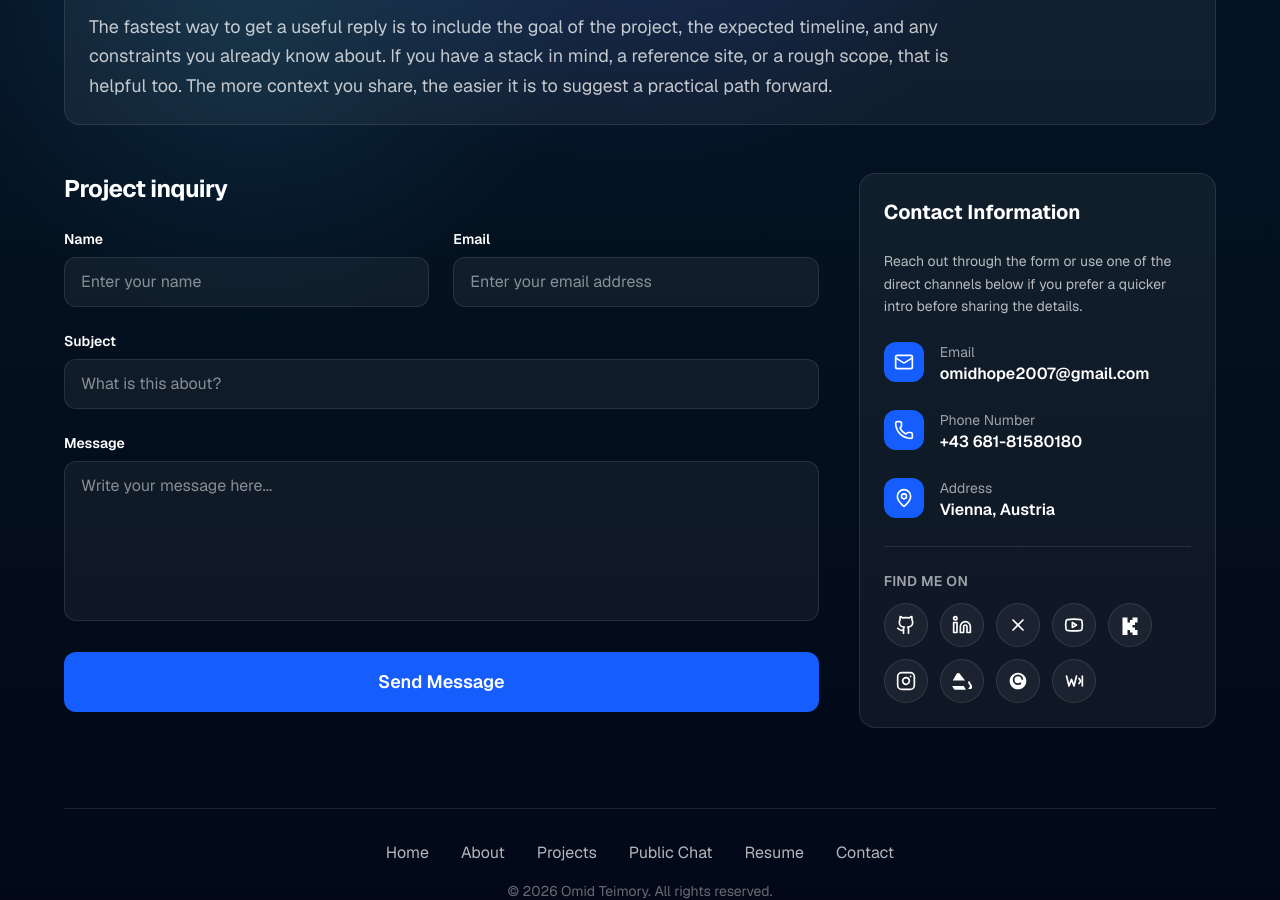
Test: frontend UI flows › contact form validates then submits
(page scrolled)
Expected: the heading "Project inquiry" is shown, [64,173,228,204]
Submit the form, box [64,173,819,728]
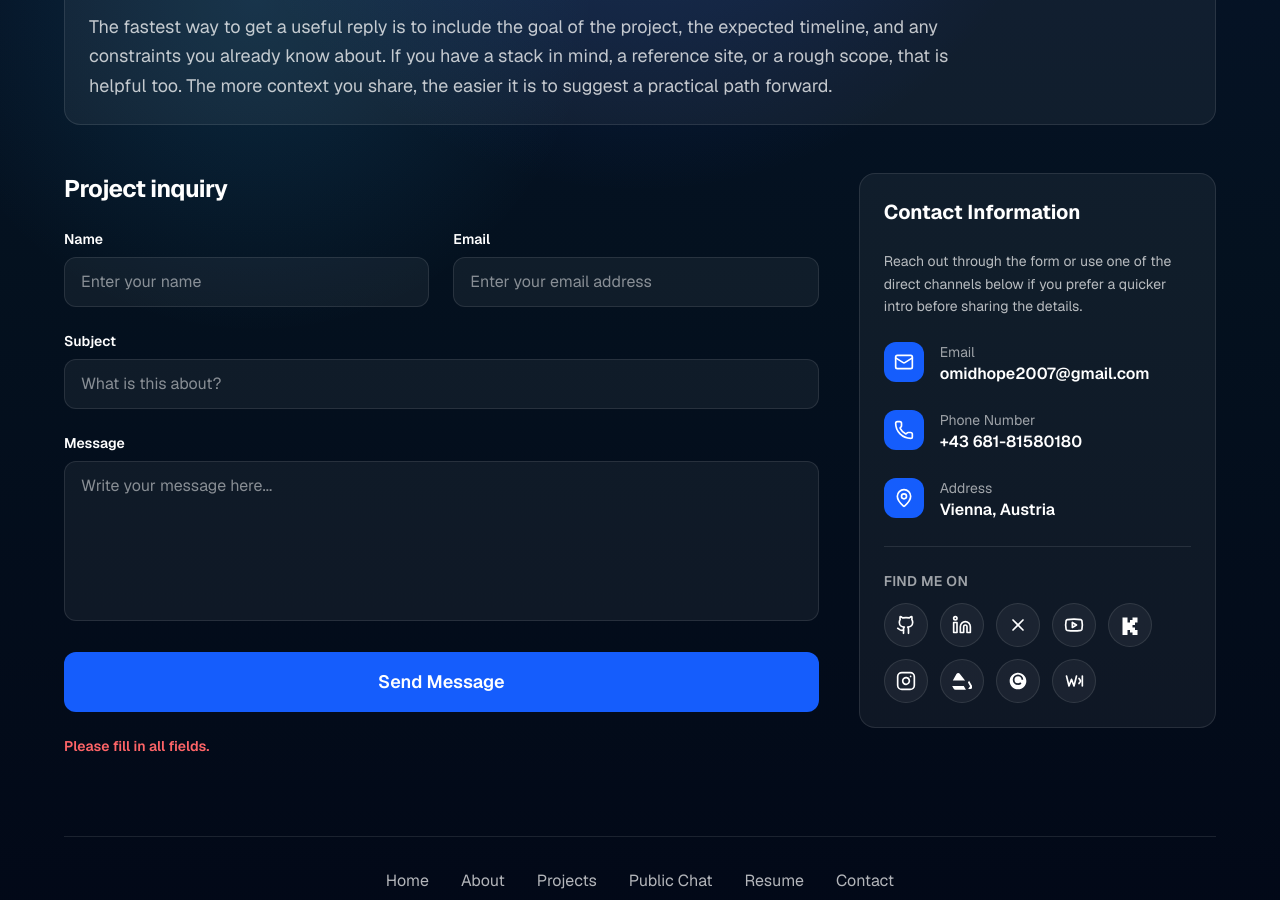
Expected: the text "Please fill in all fields." is shown, [64,737,209,755]
Type "Omid" into the field labelled "Name".
click(247, 282); type("Omid")  # box [64,257,429,307]
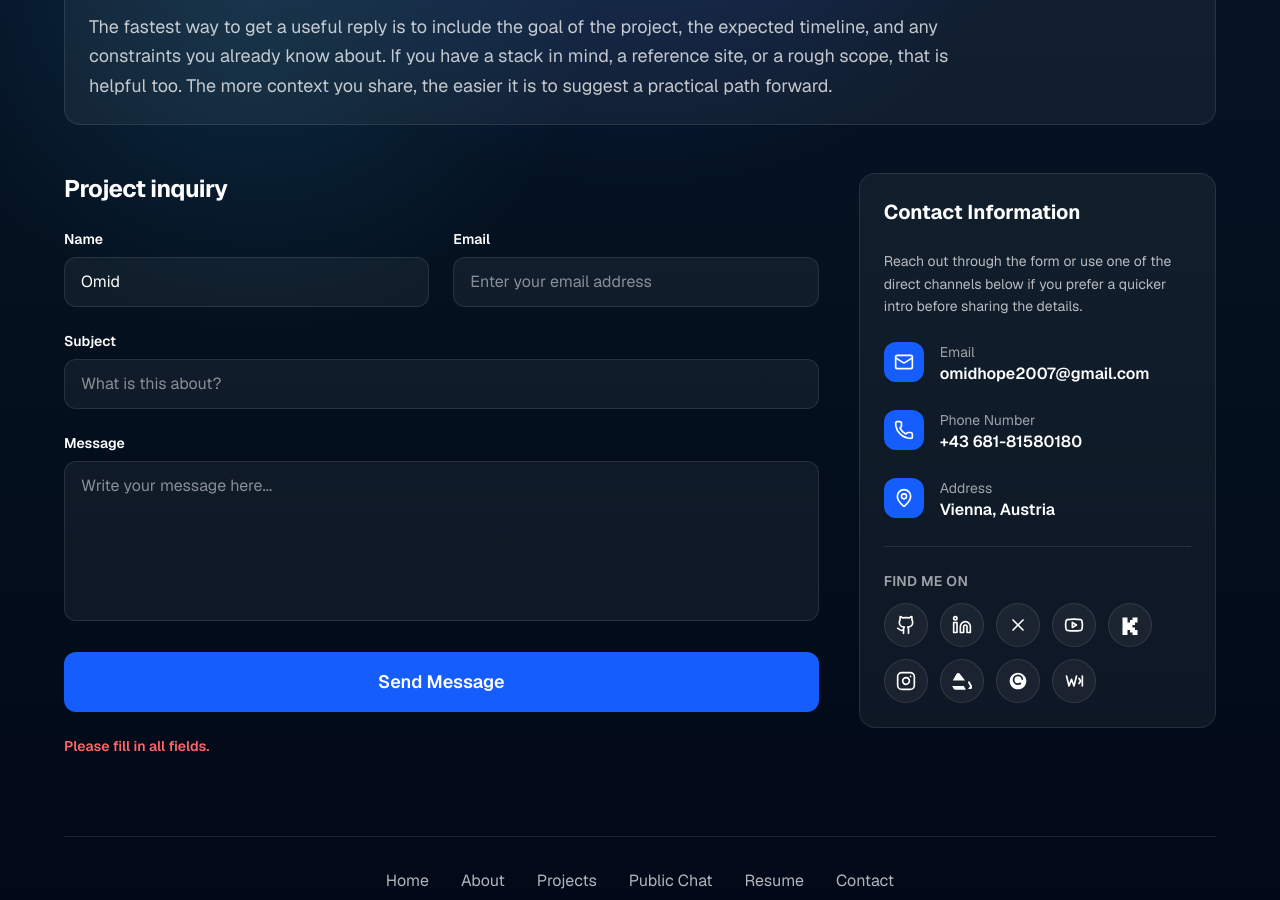
Type "omid@example.com" into the field labelled "Email".
click(636, 282); type("omid@example.com")  # box [453,257,819,307]
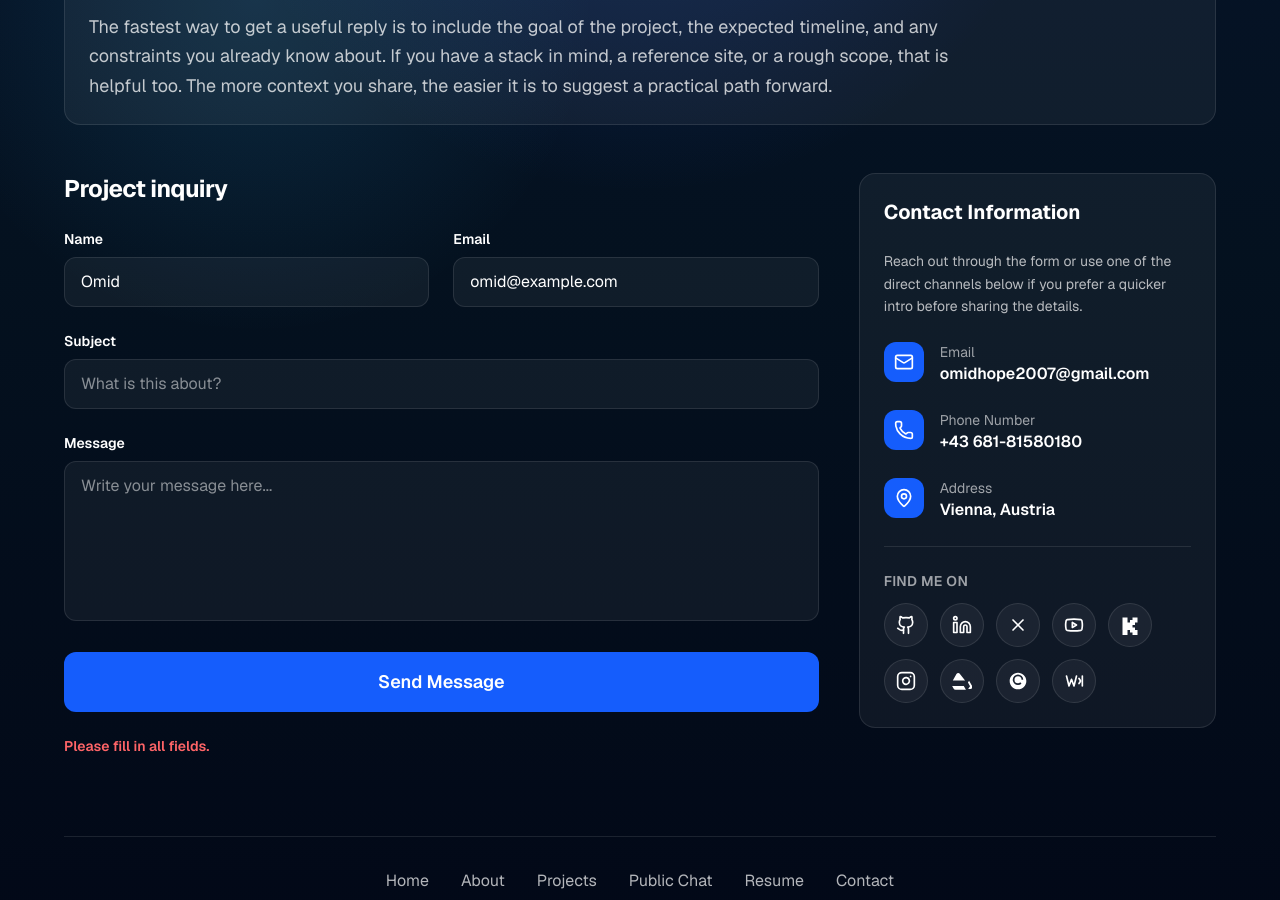
Type "Portfolio" into the field labelled "Subject".
click(441, 384); type("Portfolio")  # box [64,359,819,409]
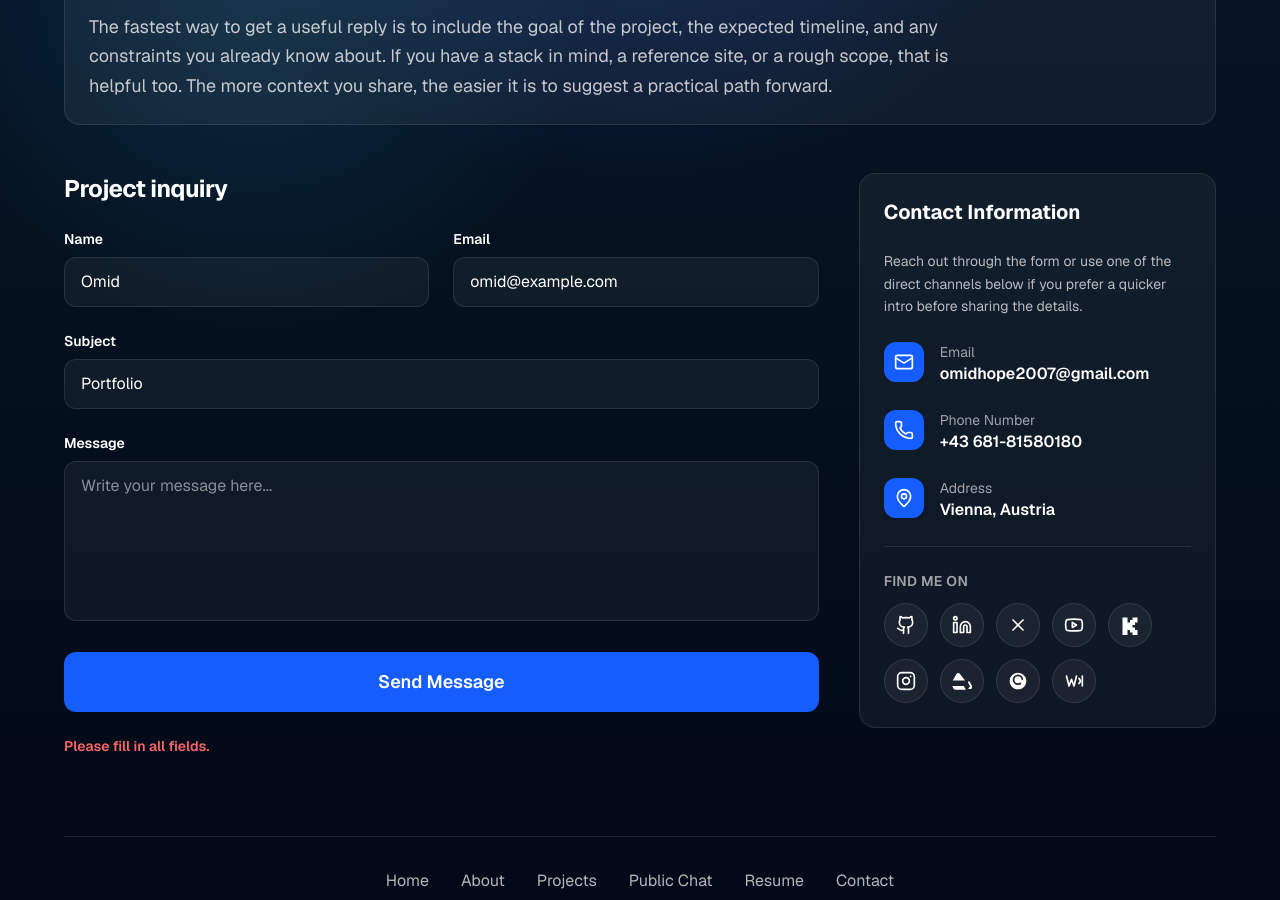
Type "Hello there" into the text box labelled "Message".
click(441, 541); type("Hello there")  # box [64,461,819,621]
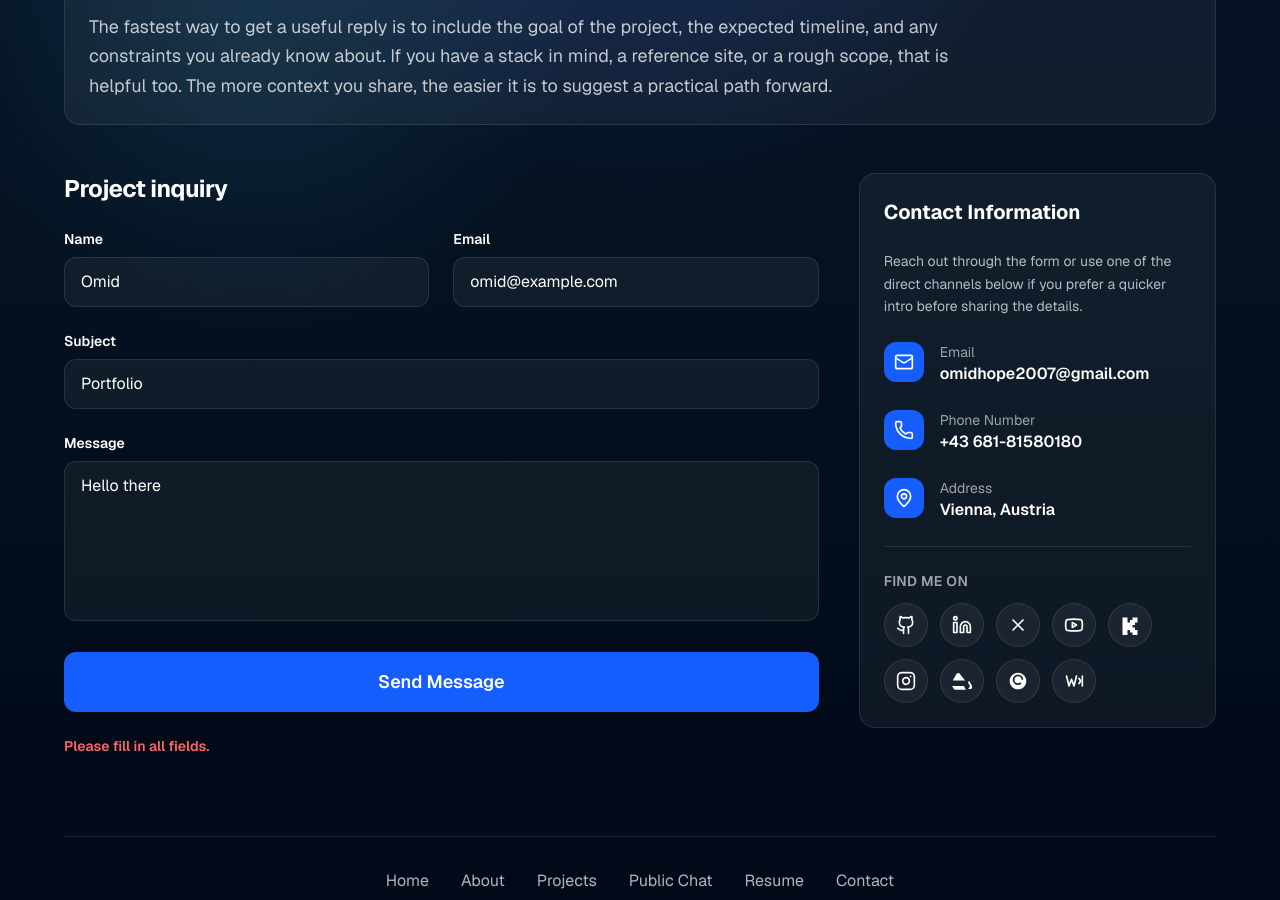
Submit the form, box [64,173,819,756]
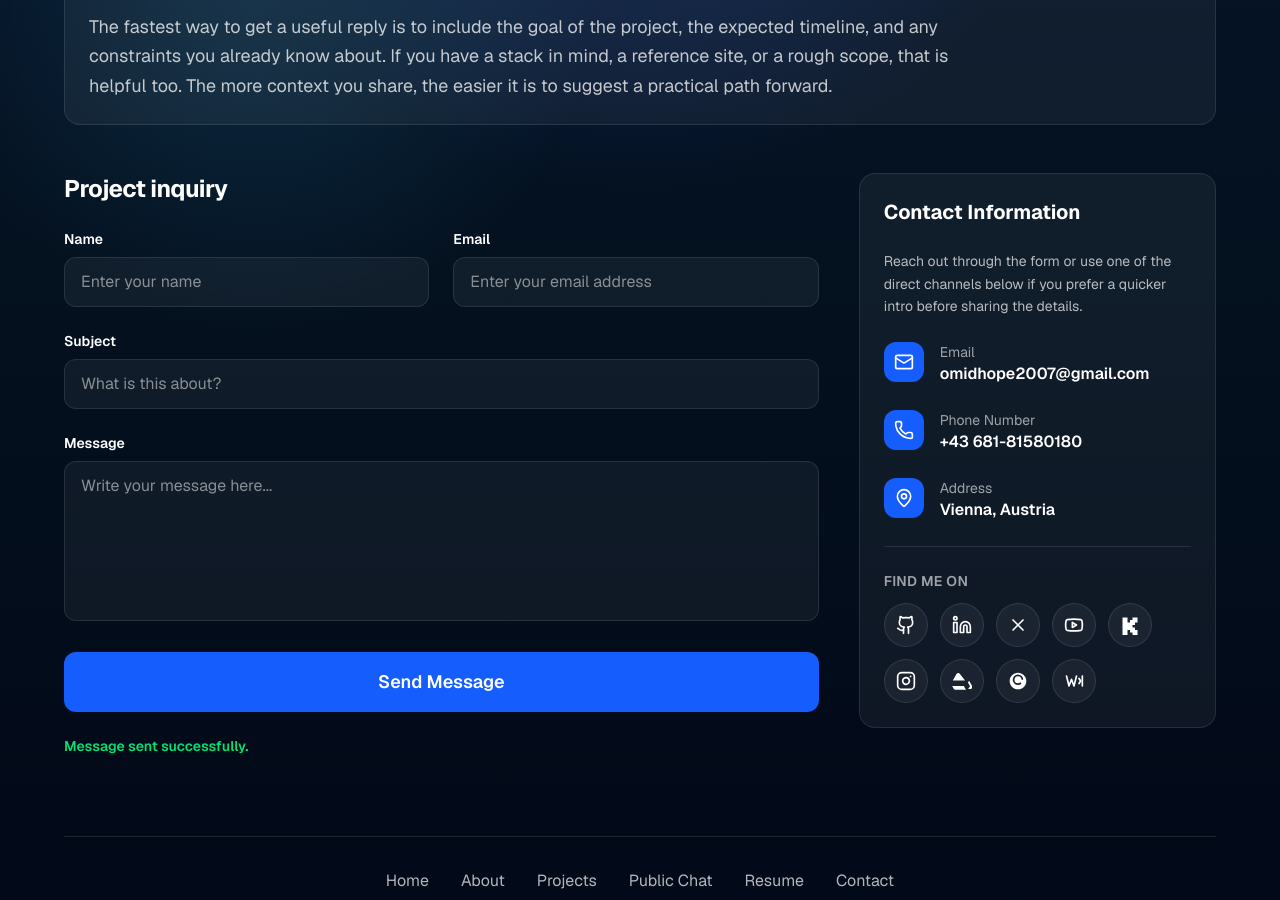
Expected: the text "Message sent successfully." is shown, [64,737,248,755]
